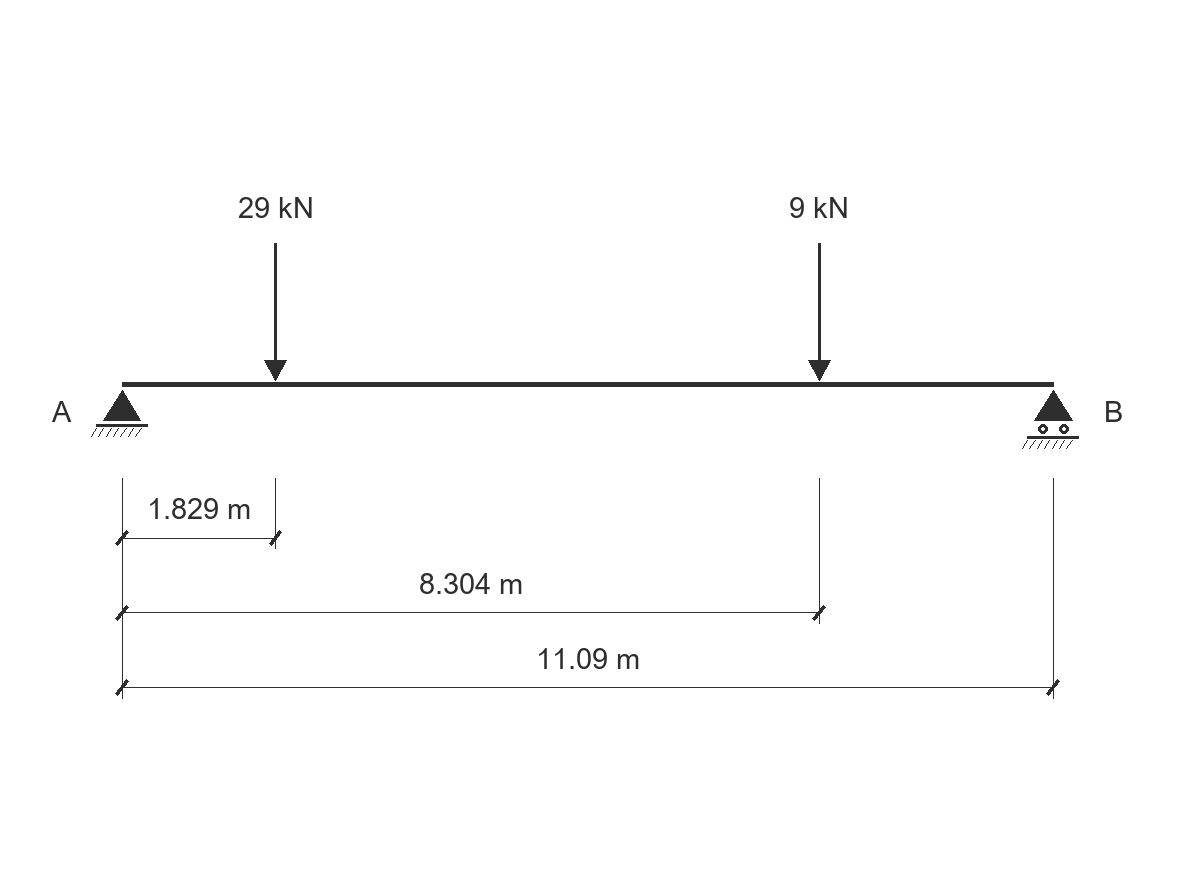pin_support: (91, 390, 148, 437)
point_load: (264, 243, 287, 381), (808, 243, 831, 381)
roller_support: (1022, 390, 1079, 449)
